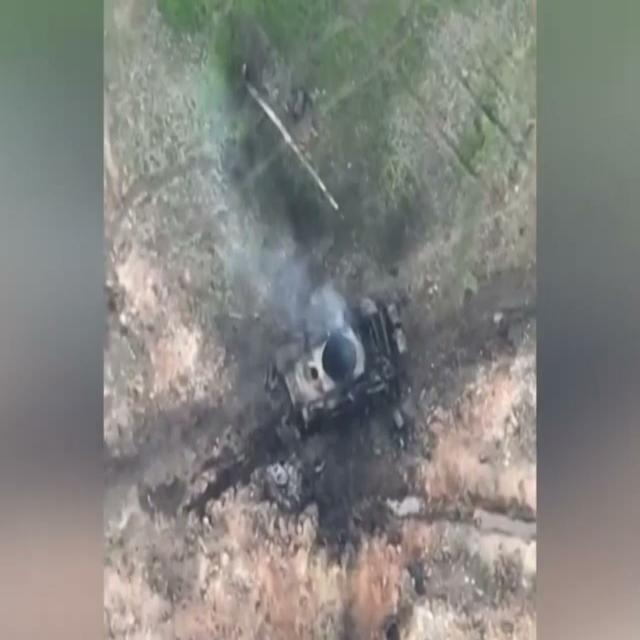Destroyed: (285, 301, 404, 435)
